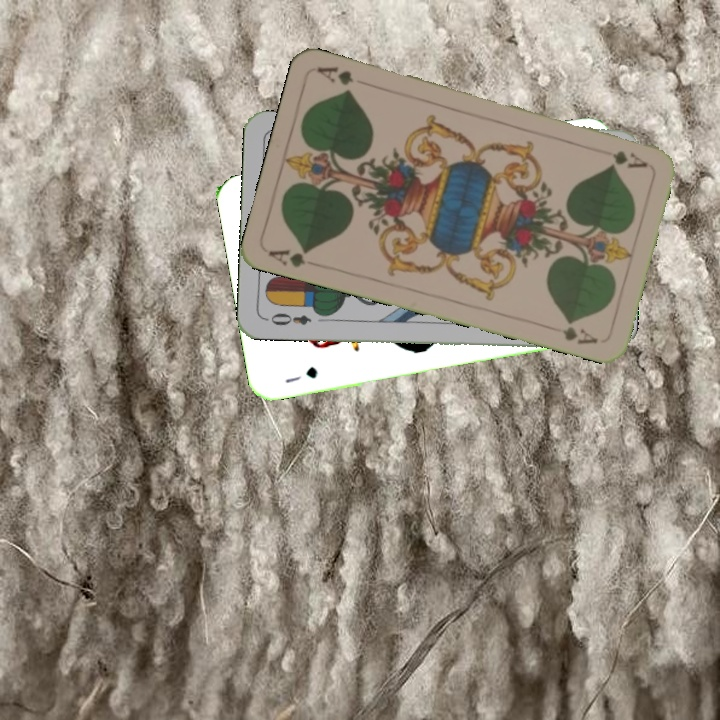EO: (262, 308, 314, 328)
GA: (594, 144, 650, 171), (264, 245, 313, 270)
GU: (281, 362, 320, 386)
